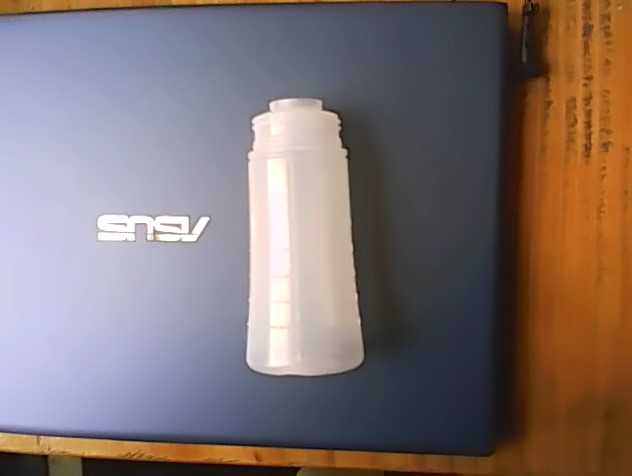Plastic: (242, 96, 367, 383)
